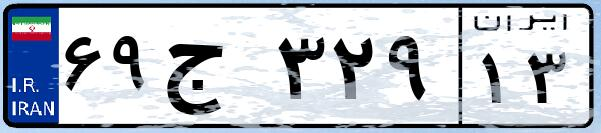1: (475, 38, 525, 113)
2: (330, 28, 385, 110)
3: (270, 28, 330, 110), (525, 38, 570, 115)
6: (57, 26, 110, 100)
9: (385, 28, 445, 110), (110, 28, 158, 98)
ج: (158, 20, 270, 120)
